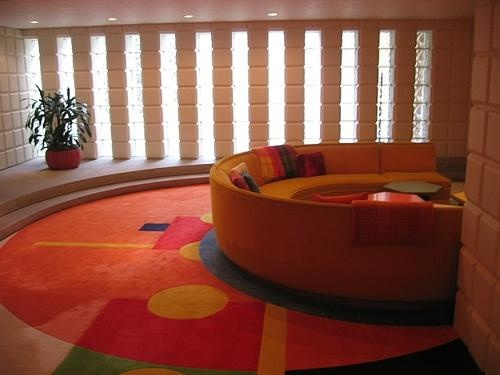pottedplant: (19, 85, 94, 173)
sofa: (210, 142, 465, 322)
